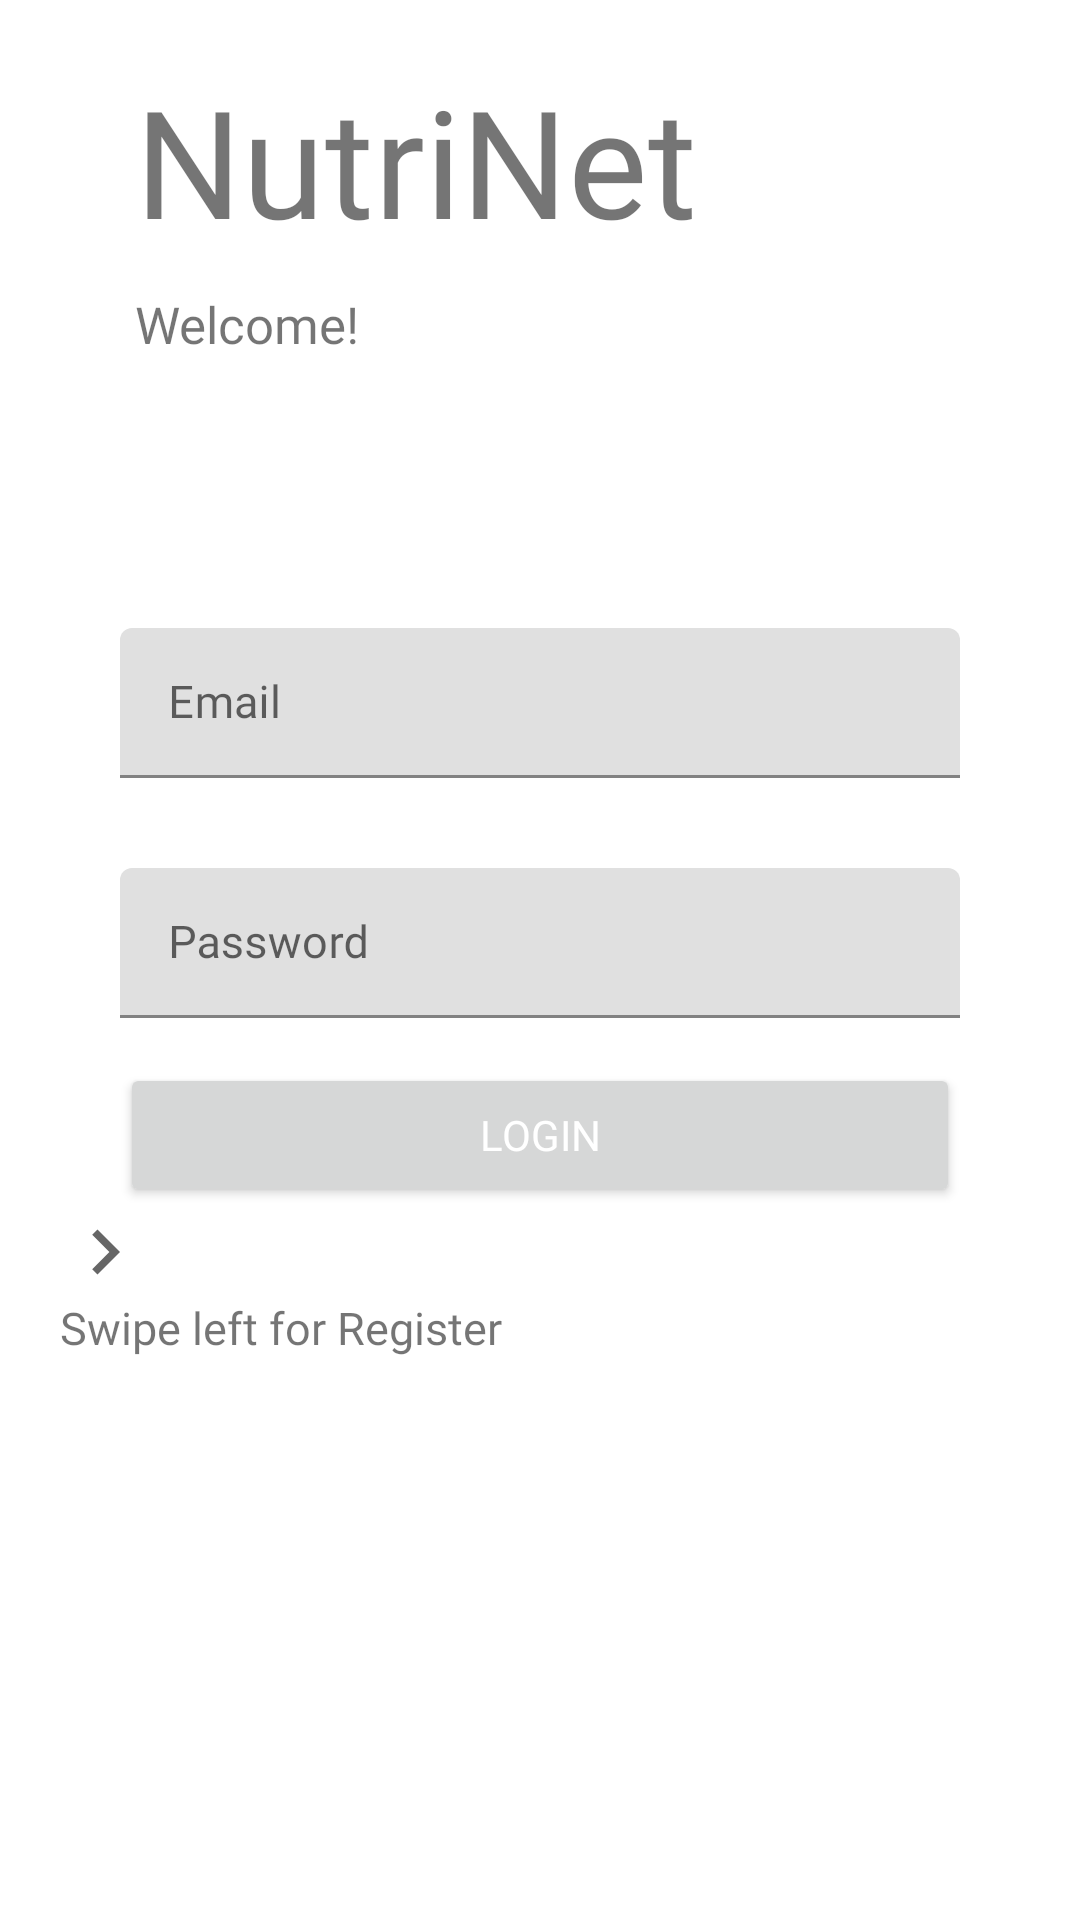

Where icons sit on this 1080*1920 app screen, as (x1, y1, x2, y2):
chevron right: (92, 1229, 120, 1275)
